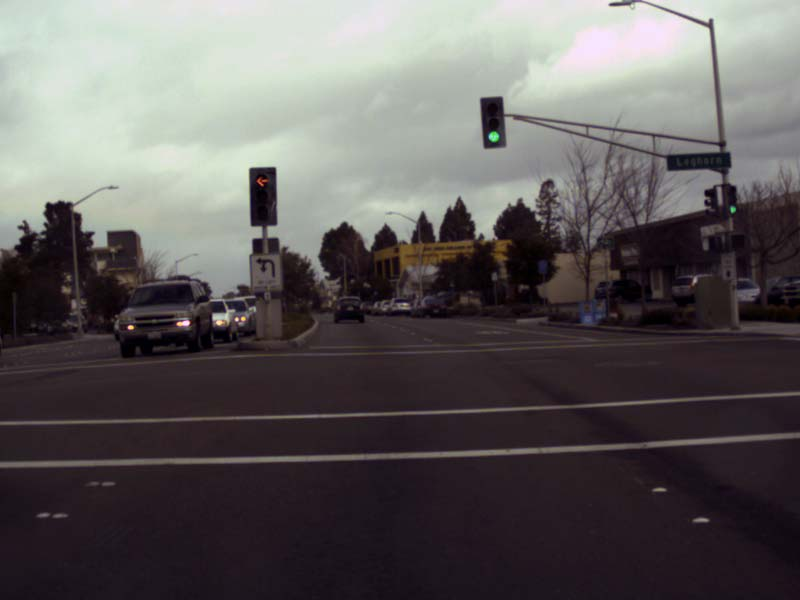Green: (480, 98, 505, 146), (726, 185, 736, 213)
Red: (250, 168, 275, 224)
